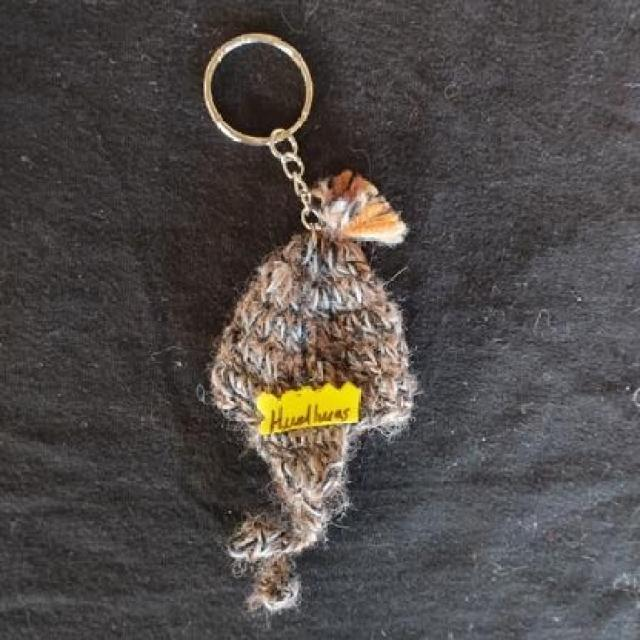Llavero: (206, 168, 420, 615)
